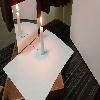fire: (40, 14, 44, 27)
